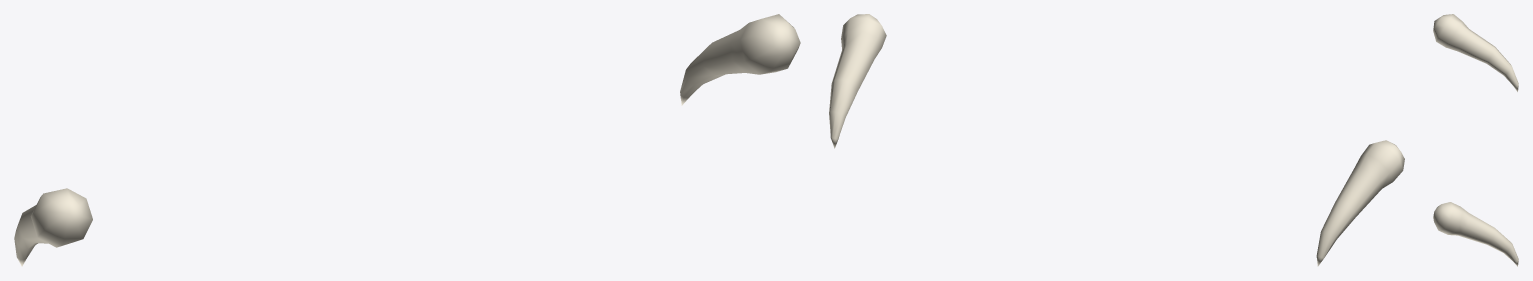
Rendered from Earring_12.fbx.
3 renders of one model, left to right at view 1: azimuth 30°, elevation 25°; view 2: azimuth 150°, elevation 25°; view 3: azimuth 270°, elevation 25°, orthographic. The views are drawn at different scales.
Visible parts, largest first — view 1: Earring_12; view 2: Earring_12; view 3: Earring_12.
Boxes of the visible parts, box(x1,y1,x2,y2) form: Earring_12: box(14, 14, 800, 266); Earring_12: box(829, 14, 1404, 266); Earring_12: box(1433, 14, 1518, 266).
Bounding box in the file's own units: 56.72 × 9.15 × 10.21.
